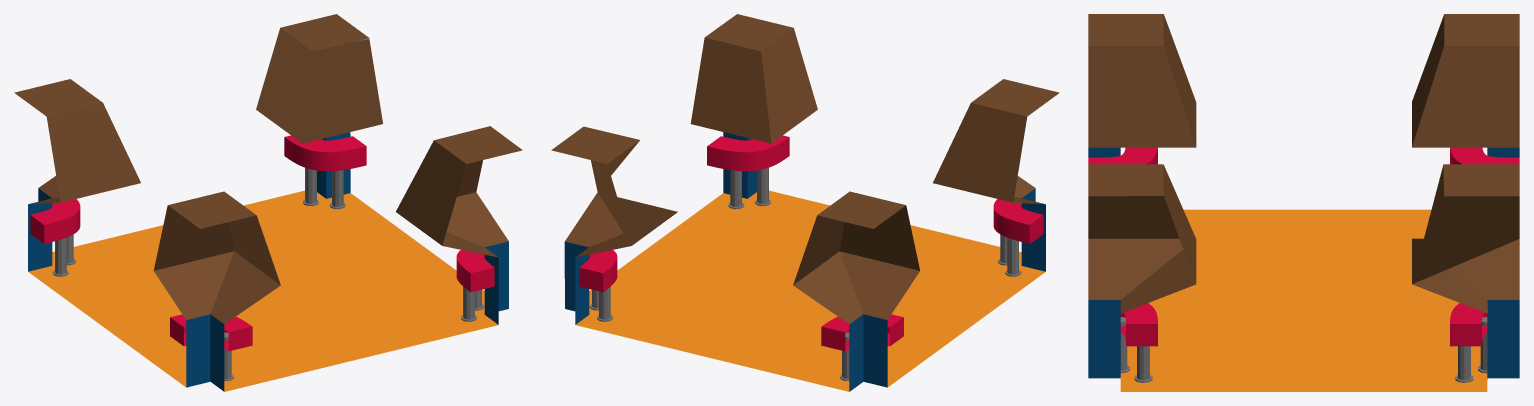
The model's file is fourSide.fbx.
3 renders of one model, left to right at view 1: azimuth 30°, elevation 25°; view 2: azimuth 150°, elevation 25°; view 3: azimuth 270°, elevation 25°, orthographic. The views are drawn at different scales.
Parts seen in each view (by area): view 1: fourSide, Cube.007, Cube.006, Cube.009, Cube.008, Cylinder.019, Cylinder.017, Cylinder.018; view 2: fourSide, Cube.009, Cube.008, Cube.007, Cube.006, Cylinder.023, Cylinder.021, Cylinder.022; view 3: fourSide, Cube.007, Cube.009, Cube.006, Cube.008, Cylinder.019, Cylinder.023.
Part boxes in pixels (x1,y1,x2,y2): fourSide: [14, 14, 522, 391]; Cube.007: [284, 135, 366, 171]; Cube.006: [30, 199, 80, 243]; Cube.009: [456, 250, 494, 292]; Cube.008: [170, 314, 252, 351]; Cylinder.019: [329, 170, 345, 209]; Cylinder.017: [52, 237, 68, 276]; Cylinder.018: [303, 168, 318, 206]; fourSide: [551, 14, 1059, 391]; Cube.009: [707, 135, 789, 171]; Cube.008: [993, 199, 1043, 243]; Cube.007: [579, 250, 617, 292]; Cube.006: [821, 314, 903, 351]; Cylinder.023: [728, 170, 744, 209]; Cylinder.021: [1005, 237, 1021, 276]; Cylinder.022: [755, 168, 770, 206]; fourSide: [1088, 14, 1519, 391]; Cube.007: [1450, 303, 1487, 346]; Cube.009: [1120, 303, 1157, 346]; Cube.006: [1450, 147, 1519, 164]; Cube.008: [1088, 147, 1157, 164]; Cylinder.019: [1455, 346, 1473, 382]; Cylinder.023: [1134, 346, 1152, 382].
Bounding box in the file's own units: 4 × 2.01 × 4.
Materials: 3 (1 with a texture image).
